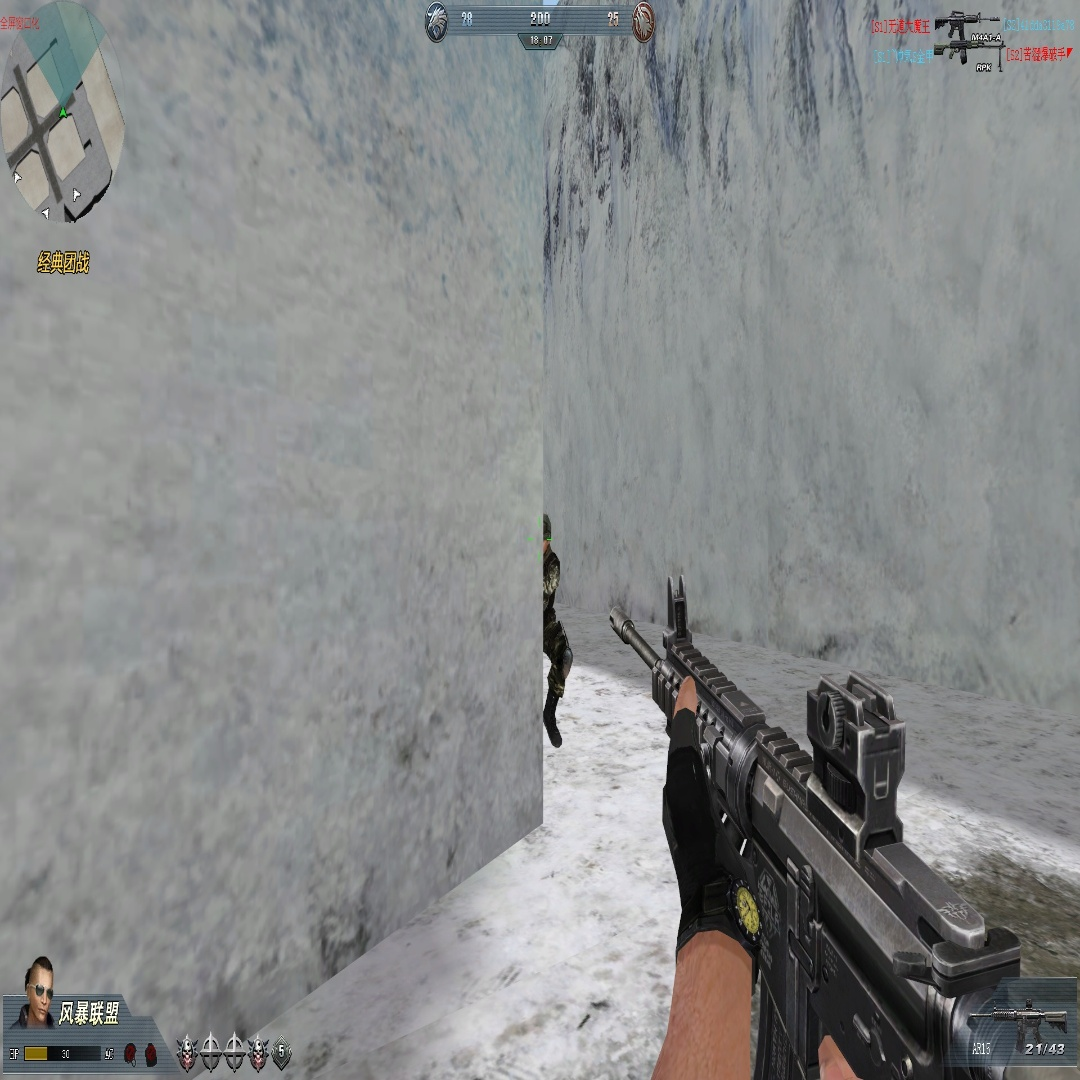ct: (542, 513, 572, 749)
head: (542, 514, 551, 553)
